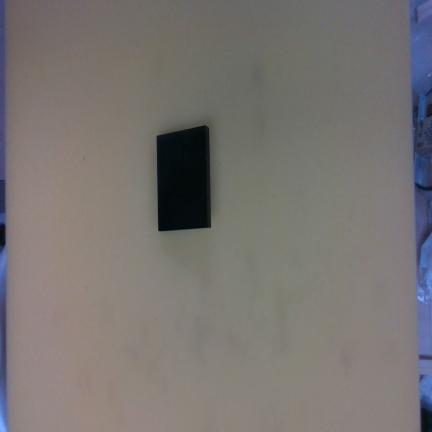tile: (157, 125, 208, 231)
